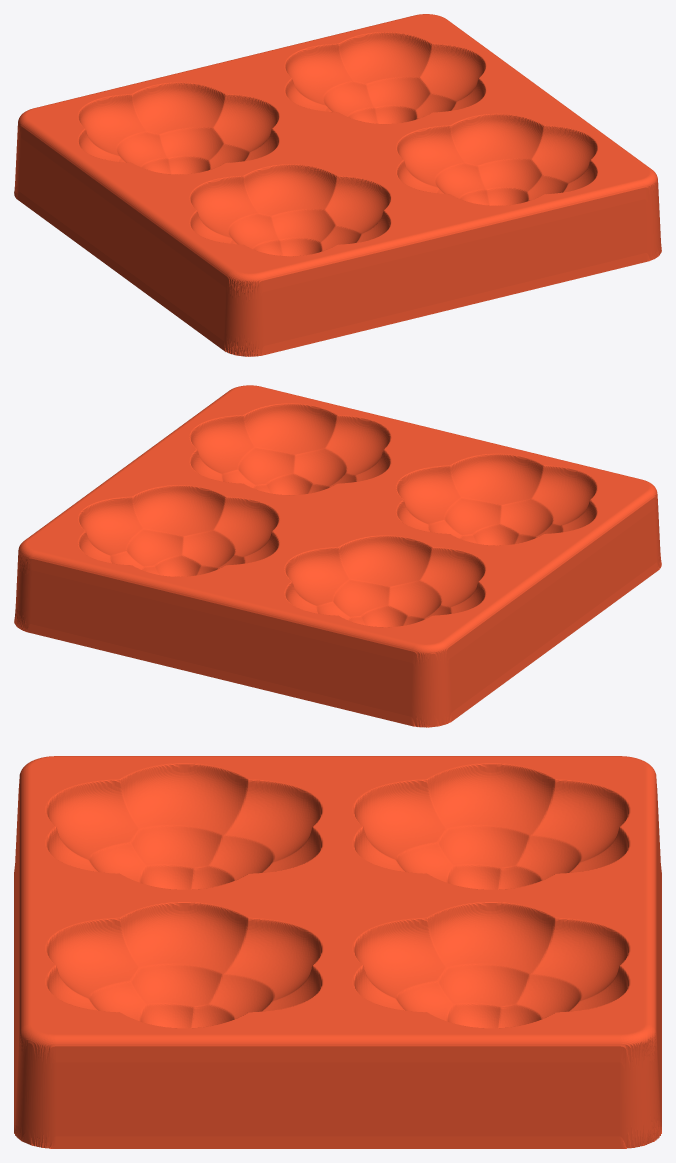
File: mold.glb
The picture shows the model from 3 angles, top to bottom: view 1: azimuth 30°, elevation 25°; view 2: azimuth 150°, elevation 25°; view 3: azimuth 270°, elevation 25°; orthographic projection. The views are drawn at different scales.
Parts seen in each view (by area): view 1: geometry_0; view 2: geometry_0; view 3: geometry_0.
Part boxes in pixels (x1,y1,x2,y2): geometry_0: (14, 14, 661, 356); geometry_0: (14, 385, 661, 727); geometry_0: (14, 756, 661, 1148).
Bounding box in the file's own units: 0.1482 × 0.0254 × 0.1392.
